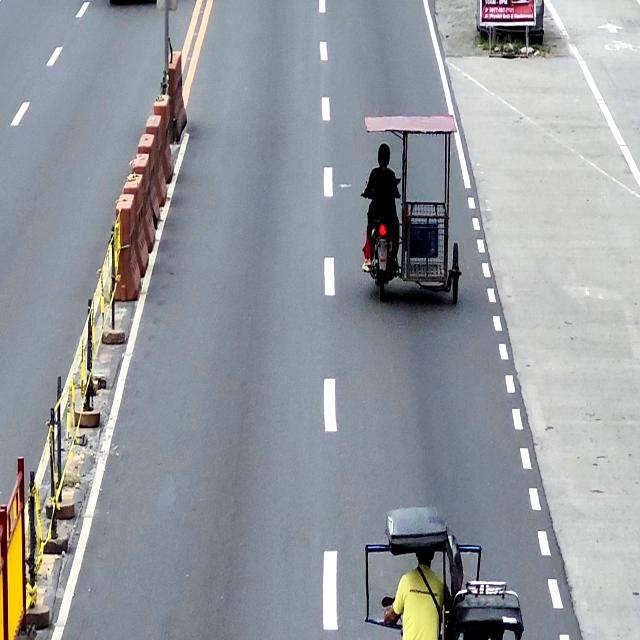Tricycle: (382, 504, 524, 640), (364, 113, 462, 306)
